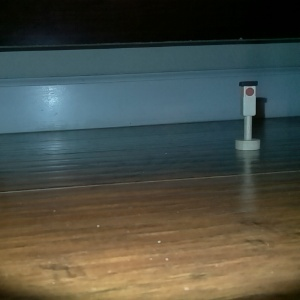traffic light red: (232, 78, 262, 152)
